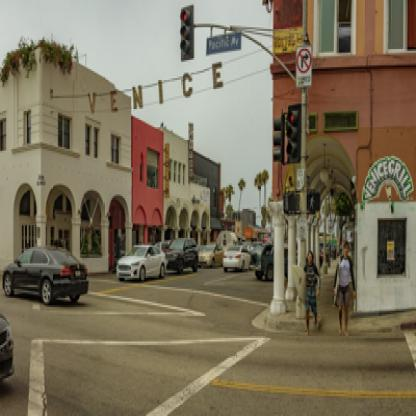trafficlight: (283, 102, 301, 162), (177, 2, 194, 60), (268, 107, 283, 164)
